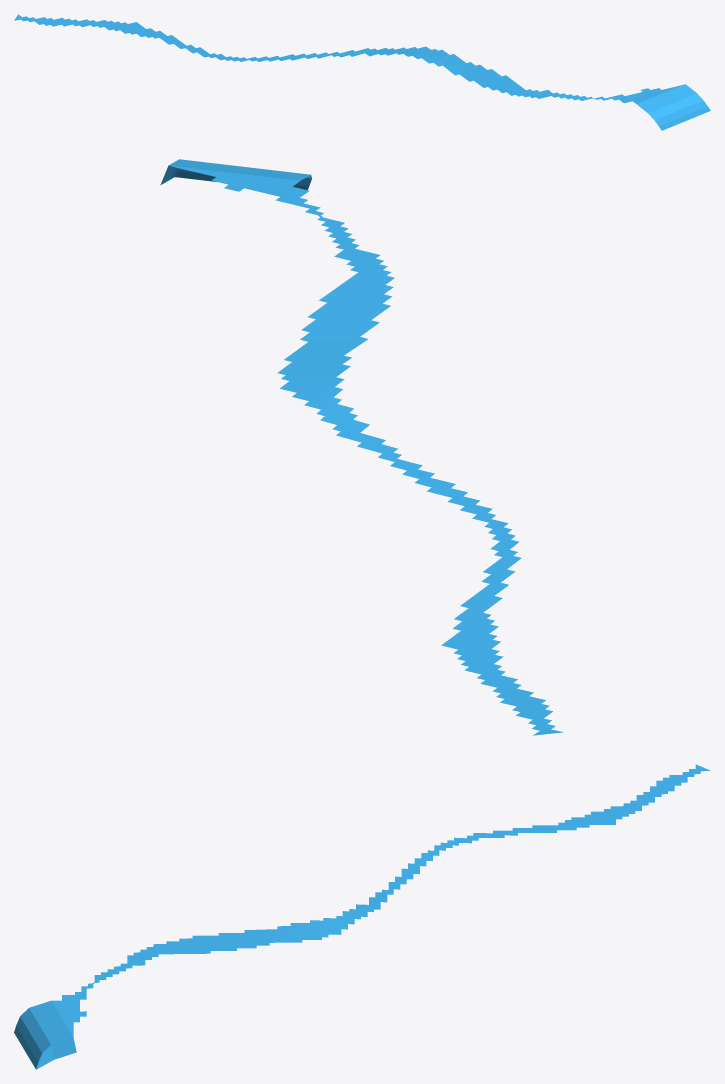
File: river_v1.glb
3 views of the same model, one above another, from view 1: azimuth 30°, elevation 25°; view 2: azimuth 150°, elevation 25°; view 3: azimuth 270°, elevation 25° (orthographic). The views are drawn at different scales.
Parts seen in each view (by area): view 1: River; view 2: River; view 3: River.
Part boxes in pixels (x1,y1,x2,y2): River: (14, 14, 710, 130); River: (160, 159, 563, 735); River: (14, 764, 709, 1069).
Bounding box in the file's own units: 205 × 9.43 × 211.
Materials: 1 (1 with a texture image).
